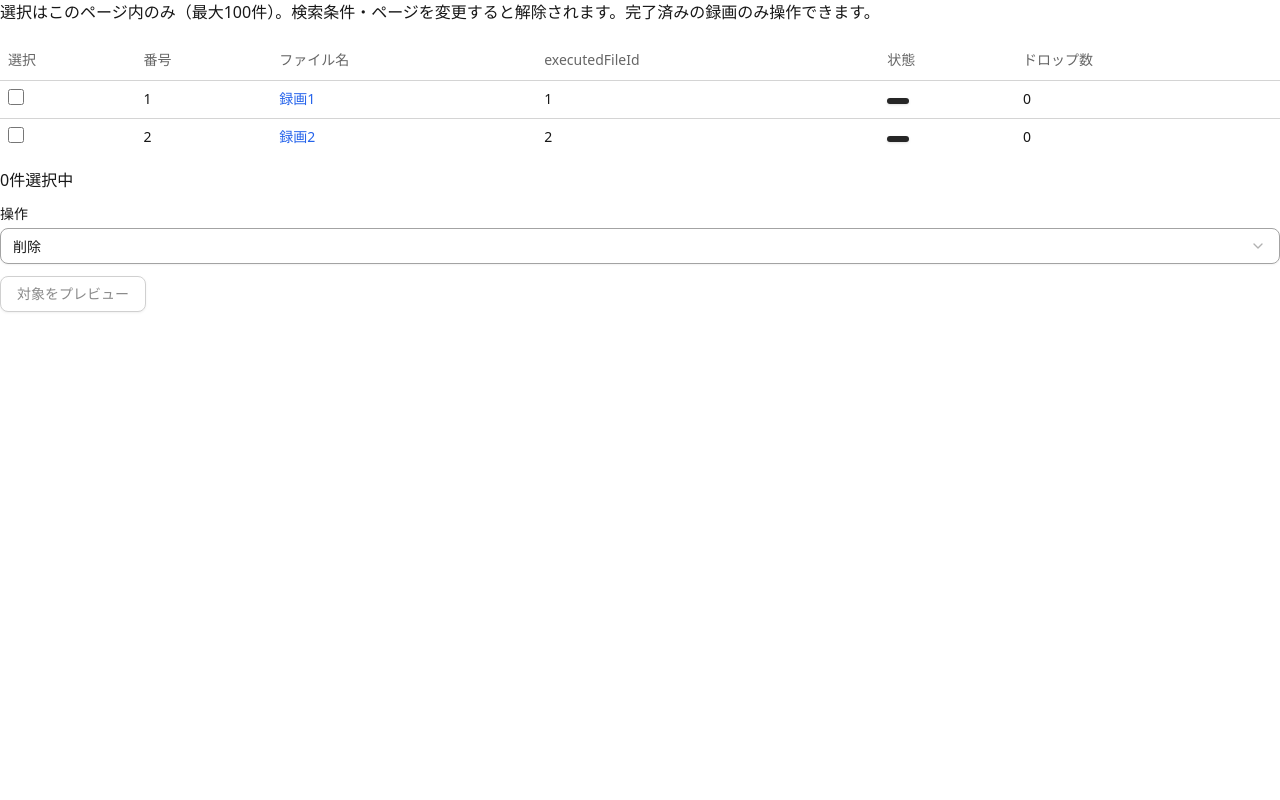
it: words the confirmation for a move and shows each destination
Step 1. Click the checkbox named "録画 1 を選択" → {"x": 16, "y": 96}, box 8,88 -> 24,104
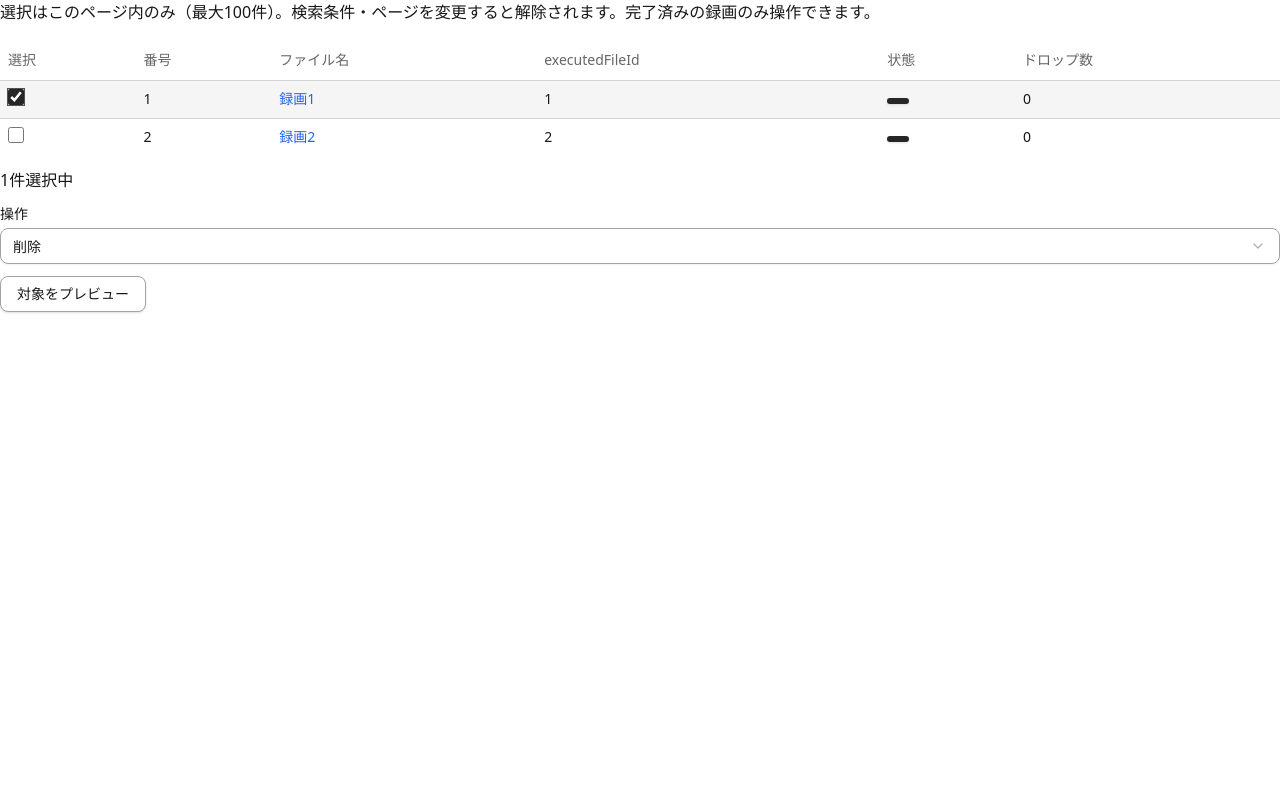
Step 2. Select "移動" in the dropdown labelled "操作" → {"x": 640, "y": 246}, box 0,228 -> 1279,264
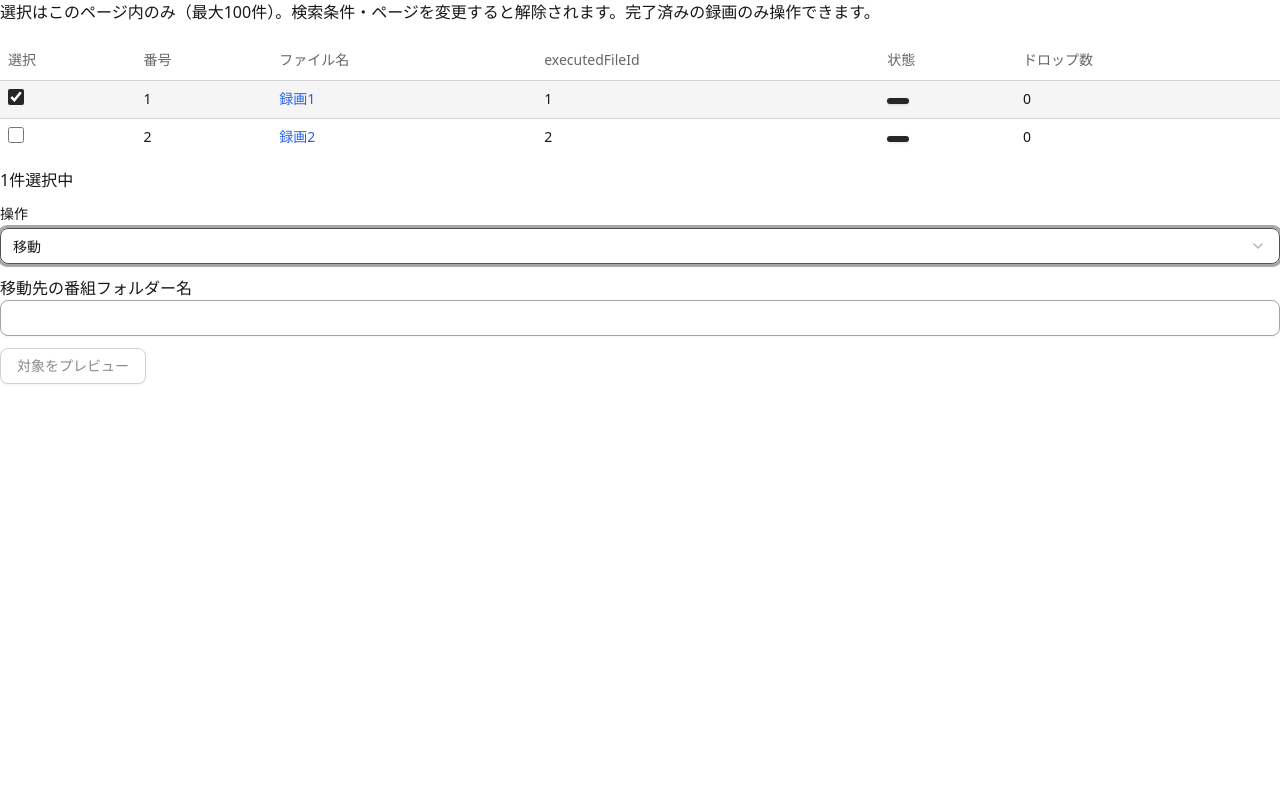
Step 3. Type "番組" into the field labelled "移動先の番組フォルダー名" → {"x": 640, "y": 318}, box 0,300 -> 1279,336
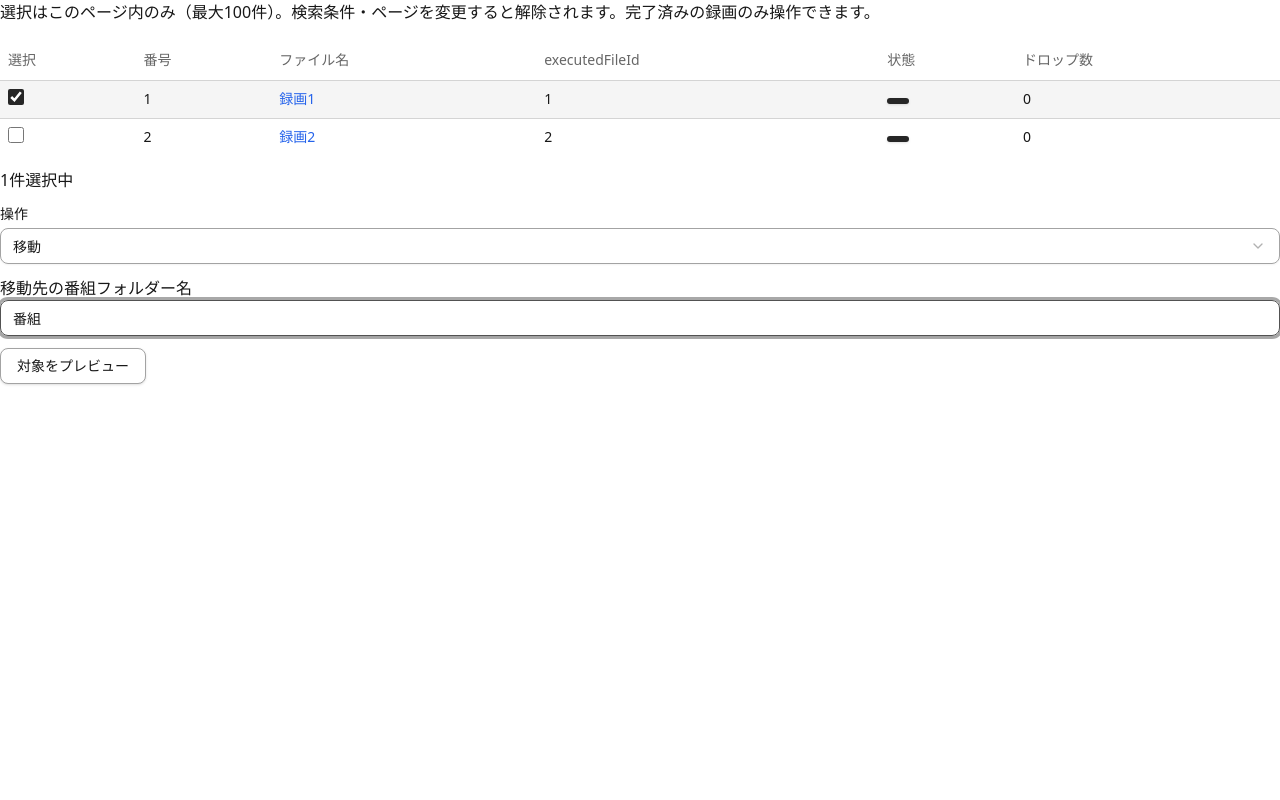
Step 4. Click the button "対象をプレビュー" → {"x": 73, "y": 366}, box 0,348 -> 146,384
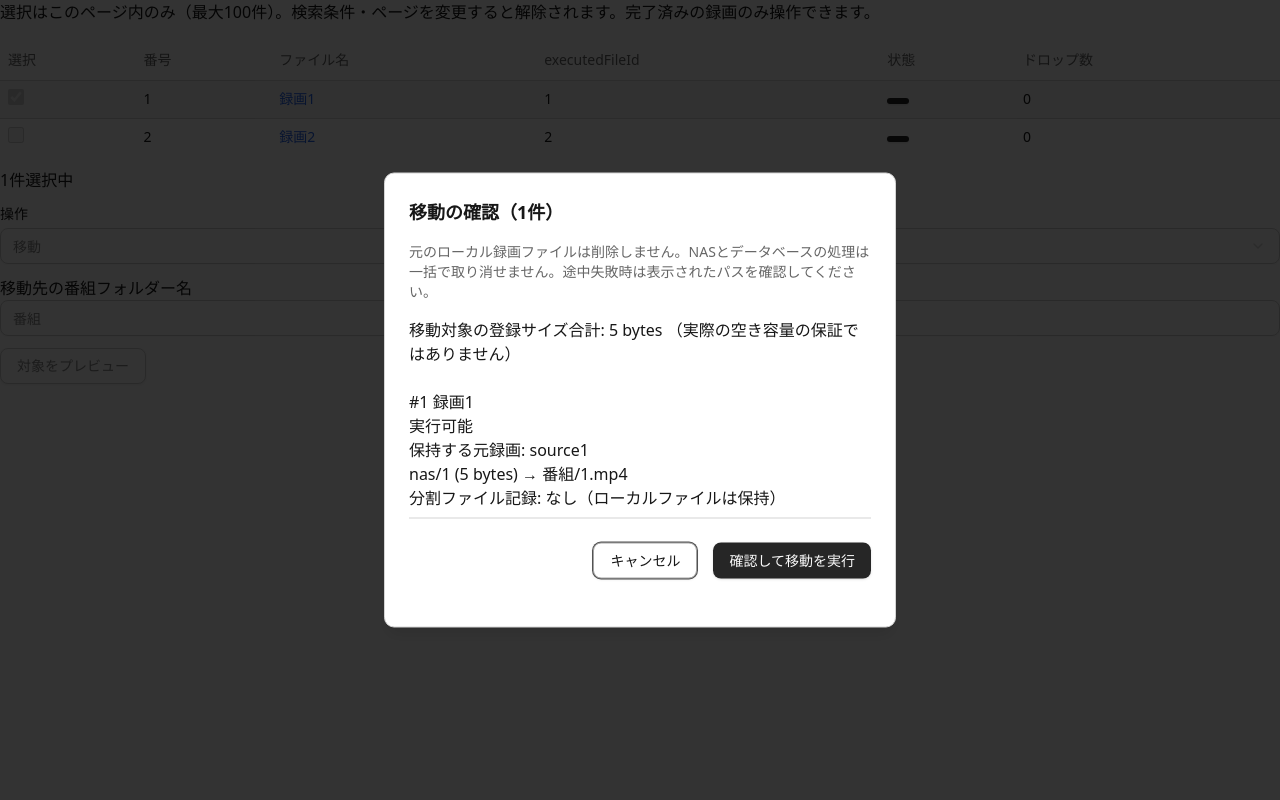
Result: the text "移動対象の登録サイズ合計: 5 bytes （実際の空き容量の保証ではありません）" is shown at 409,318 -> 871,366
Result: the list item "nas/1 (5 bytes) → 番組/1.mp4" is shown at 409,462 -> 628,484
Result: the button "確認して移動を実行" is enabled at 713,542 -> 871,578
